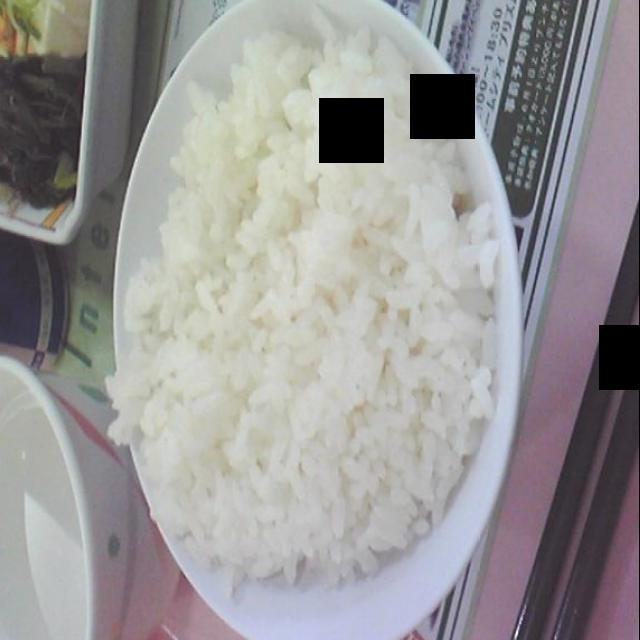rice: (108, 33, 503, 581)
